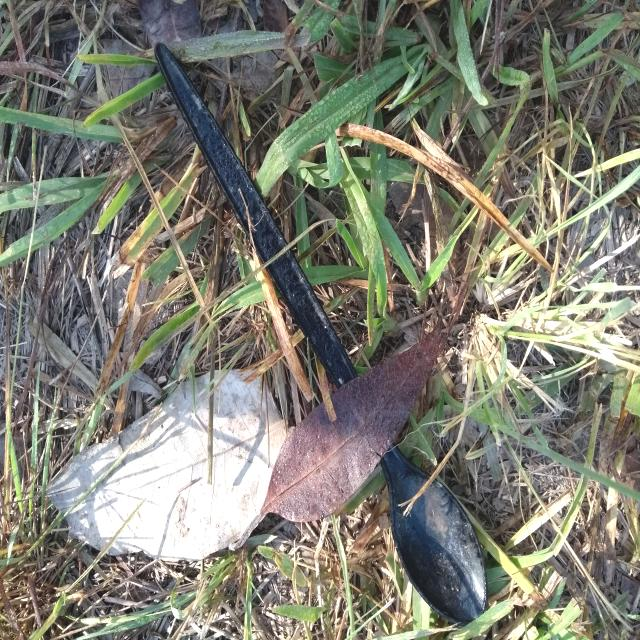Plastic utensils: (154, 42, 488, 627)
